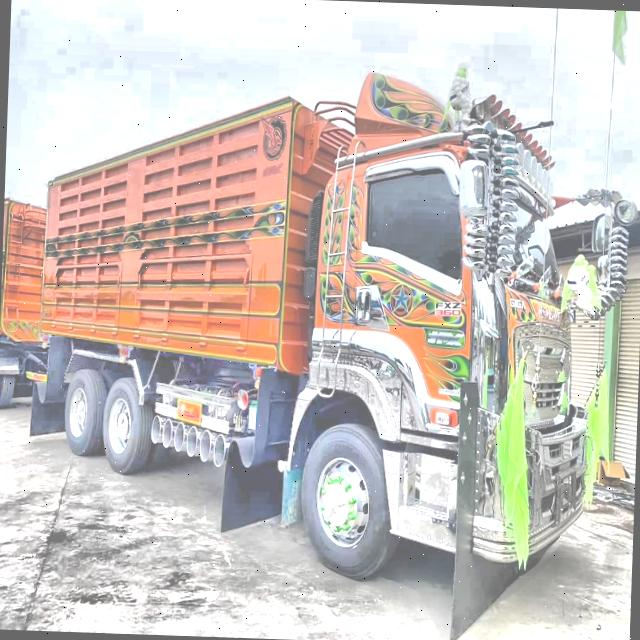trailer: (0, 54, 605, 592)
